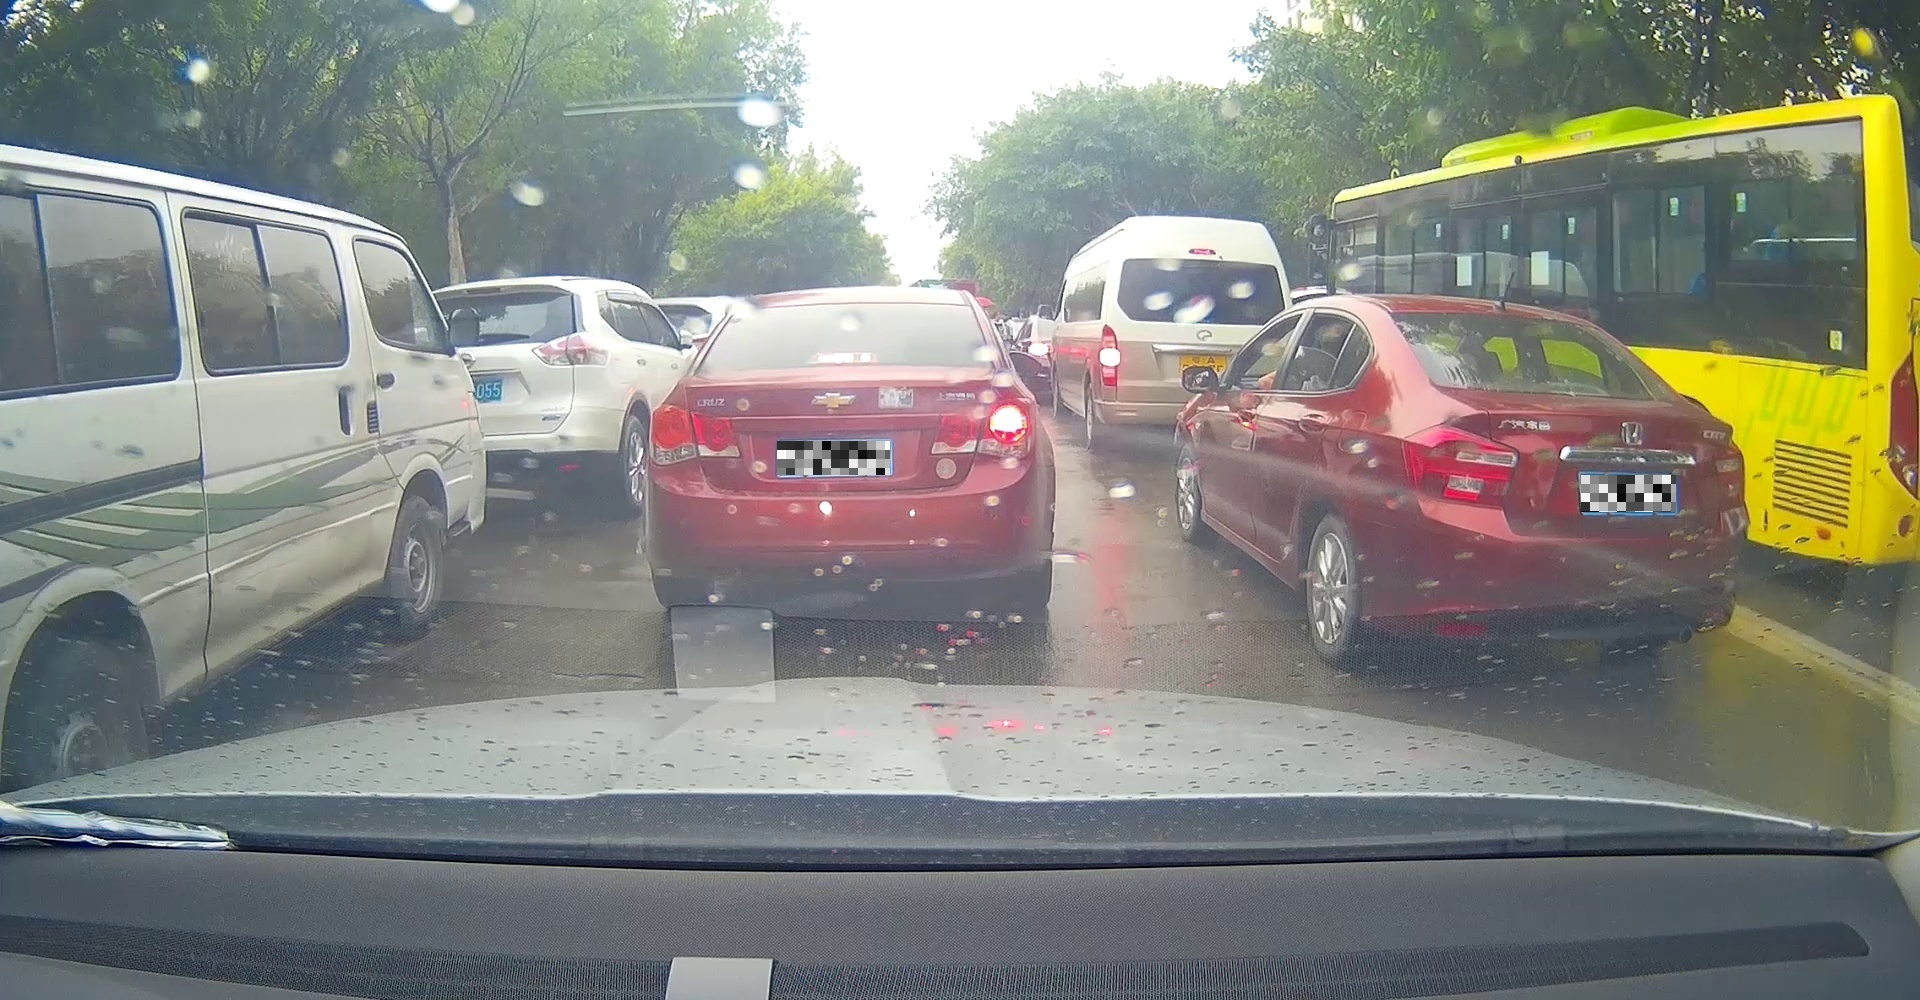L_light: (1397, 423, 1519, 505), (648, 404, 742, 466)
R_light: (928, 395, 1037, 461), (1712, 447, 1746, 508)
T_light: (1544, 382, 1606, 396), (808, 352, 874, 363)
day-no: (1375, 303, 1751, 664)
day-right: (641, 291, 1043, 608)
plate_1: (777, 442, 890, 475)
plate_2: (1581, 475, 1676, 511)
